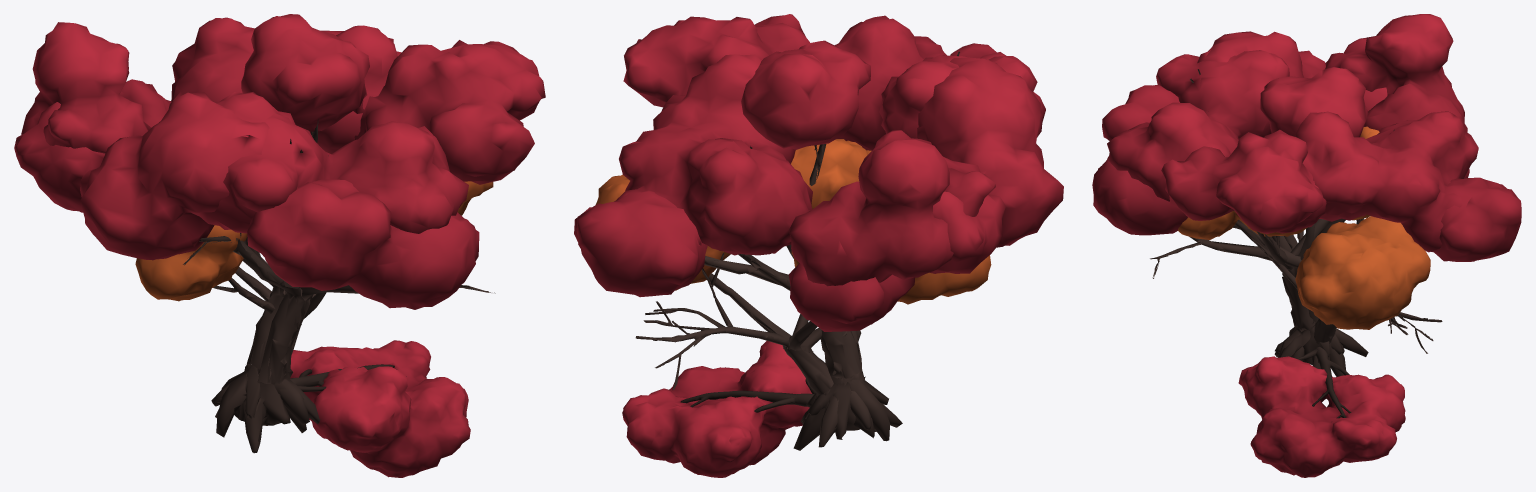
Rendered from trees_lod.glb.
The picture shows the model from 3 angles, left to right: view 1: azimuth 30°, elevation 25°; view 2: azimuth 150°, elevation 25°; view 3: azimuth 270°, elevation 25°; orthographic projection. The views are drawn at different scales.
Visible parts, largest first — view 1: MapleTree_2_LOD, MapleTree_0_LOD, MapleBranch_Overhang_LOD, MapleTree_1_LOD; view 2: MapleTree_2_LOD, MapleTree_0_LOD, MapleBranch_Overhang_LOD, MapleTree_1_LOD; view 3: MapleTree_0_LOD, MapleTree_2_LOD, MapleBranch_Overhang_LOD, MapleTree_1_LOD.
Boxes of the visible parts, box(x1,y1,x2,y2) form: MapleTree_2_LOD: box(14, 14, 545, 453); MapleTree_0_LOD: box(21, 17, 468, 437); MapleBranch_Overhang_LOD: box(290, 340, 470, 477); MapleTree_1_LOD: box(135, 181, 493, 432); MapleTree_2_LOD: box(574, 14, 1063, 450); MapleTree_0_LOD: box(616, 15, 1037, 441); MapleBranch_Overhang_LOD: box(622, 341, 815, 477); MapleTree_1_LOD: box(595, 139, 991, 429); MapleTree_0_LOD: box(1107, 14, 1478, 361); MapleTree_2_LOD: box(1092, 31, 1521, 376); MapleBranch_Overhang_LOD: box(1238, 347, 1405, 477); MapleTree_1_LOD: box(1178, 126, 1442, 368).
Bounding box in the file's own units: 15 × 14.9 × 15.79.
